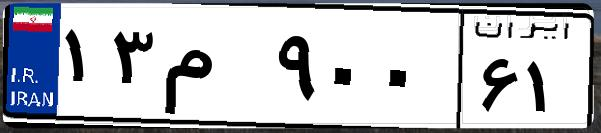0: (385, 28, 445, 110), (330, 28, 385, 110)
1: (57, 26, 110, 100), (525, 38, 570, 115)
3: (110, 28, 158, 98)
6: (475, 38, 525, 113)
9: (270, 28, 330, 110)
م: (158, 20, 270, 120)
